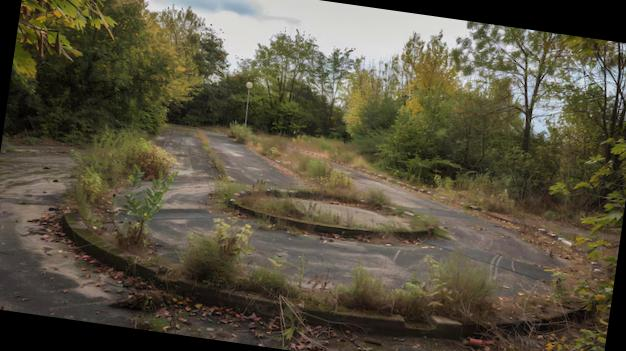overgrown grass: (186, 224, 508, 320), (236, 126, 389, 209), (75, 131, 176, 238), (114, 168, 172, 248), (417, 170, 516, 213), (237, 191, 351, 224), (299, 134, 372, 172), (202, 131, 226, 172), (385, 223, 408, 235)
trash: (468, 336, 484, 348), (546, 230, 558, 238)
